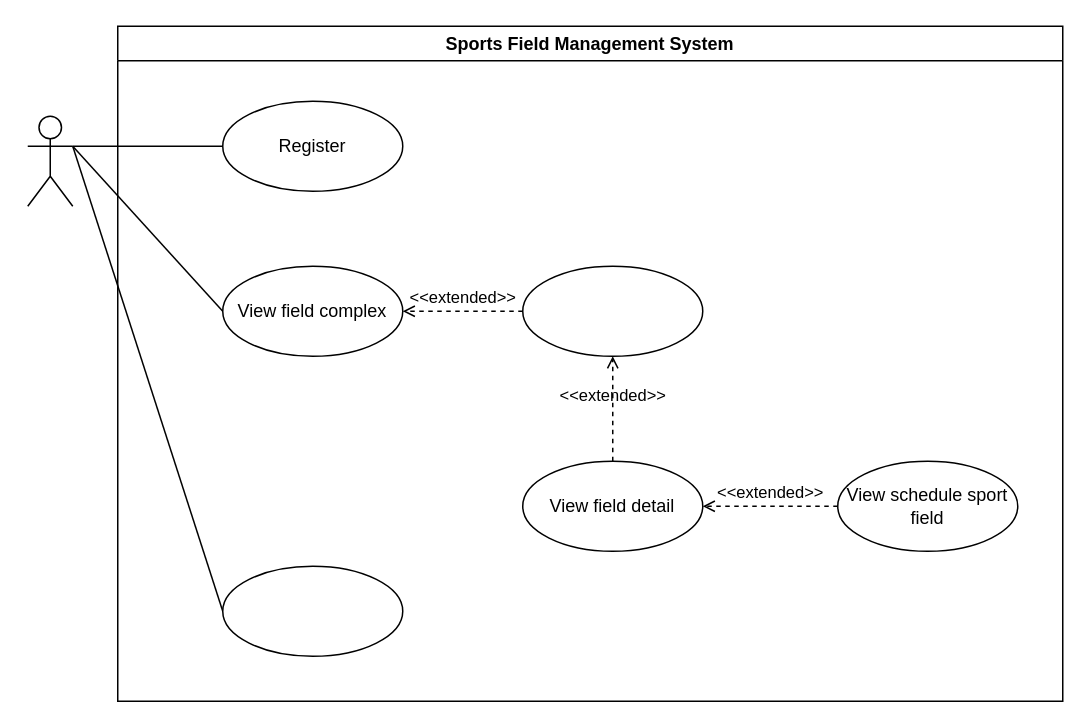
This 1089x728 diagram has some shape labels left out. The centre of each missing label's shape, as x and y in pixels:
"Guest" goes at [49,160].
"View field complex detail" goes at [612,310].
"View policy" goes at [312,610].
